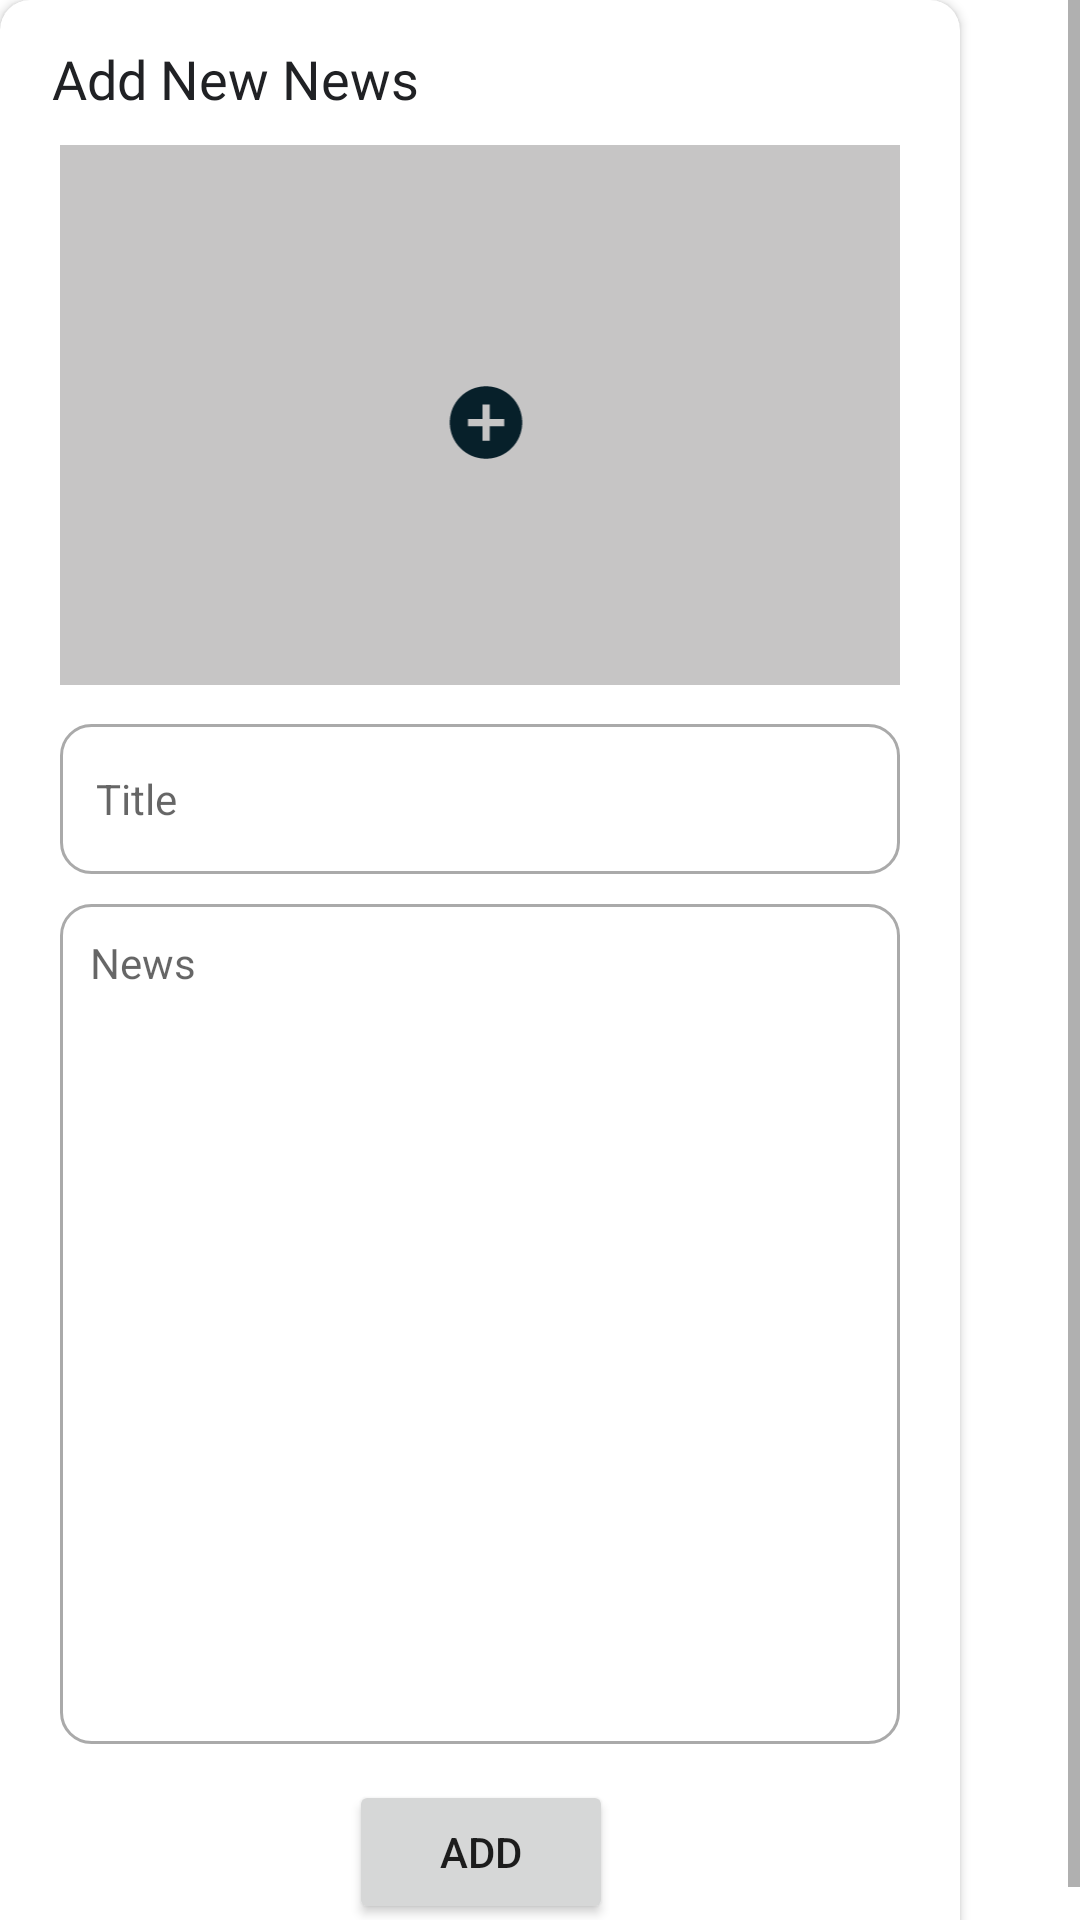

Where icons sit on this 1080w x 1920h app screen, as {"x1": x1, "y1": y1, "x2": x2, "y2": y2}:
add circle: {"x1": 449, "y1": 386, "x2": 523, "y2": 459}
